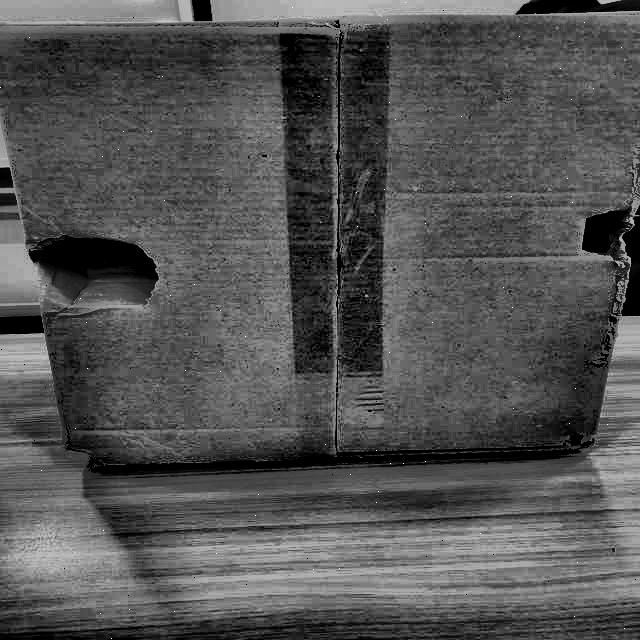box: (0, 2, 639, 484)
hole: (26, 232, 166, 307), (568, 197, 640, 267)
